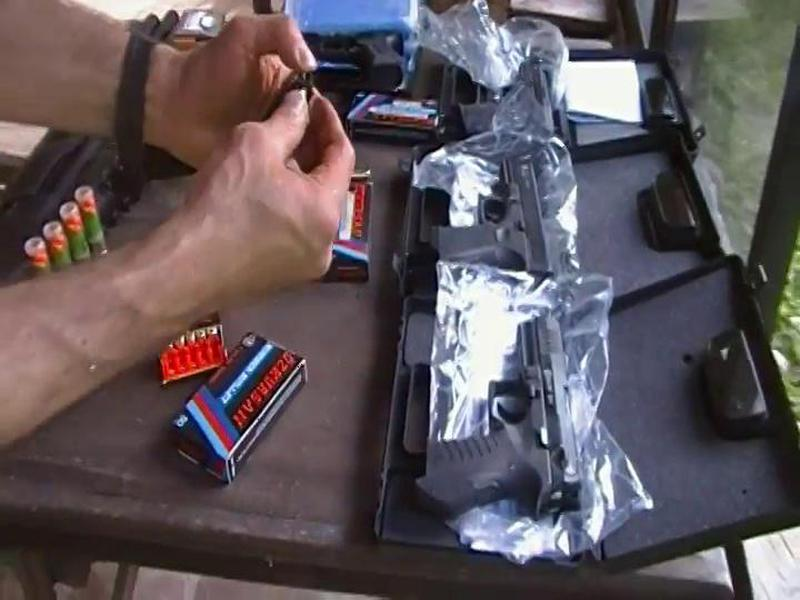Pistola: (406, 312, 597, 532), (426, 147, 594, 302)
